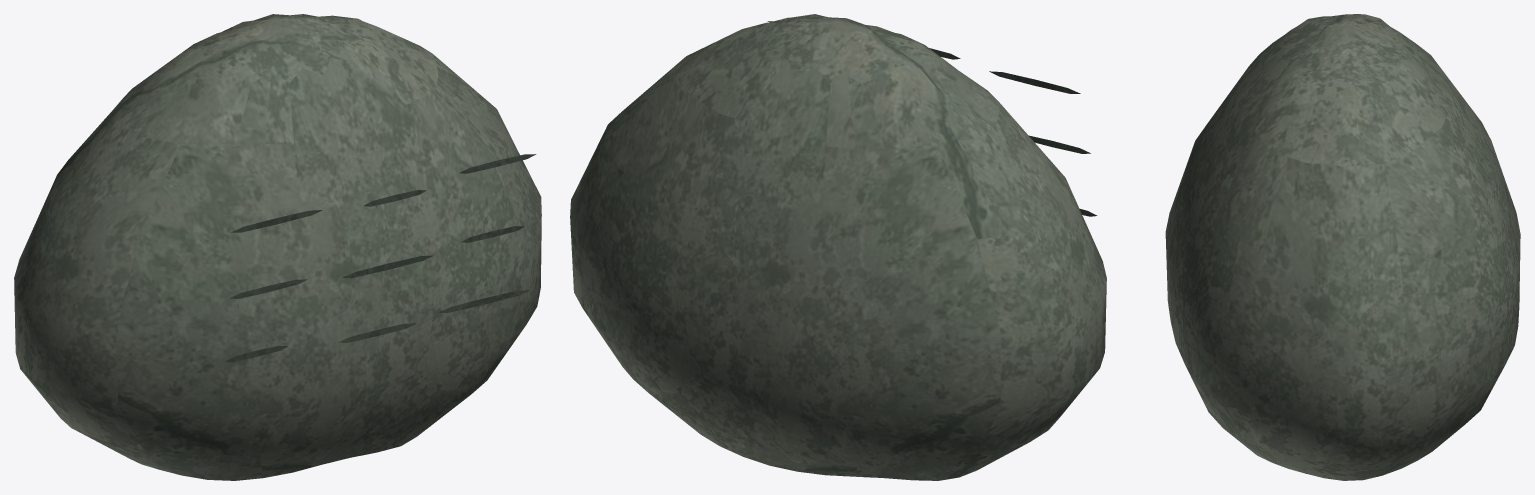
File: wayfinding-stone.desktop.glb
The picture shows the model from 3 angles, left to right: view 1: azimuth 30°, elevation 25°; view 2: azimuth 150°, elevation 25°; view 3: azimuth 270°, elevation 25°; orthographic projection. The views are drawn at different scales.
Visible parts, largest first — view 1: SA_G14_MESH_60, SA_G14_MESH_61; view 2: SA_G14_MESH_60, SA_G14_MESH_61; view 3: SA_G14_MESH_60.
Part boxes in pixels (x1,y1,x2,y2): SA_G14_MESH_60: [14, 14, 541, 480]; SA_G14_MESH_61: [225, 154, 536, 362]; SA_G14_MESH_60: [570, 14, 1106, 480]; SA_G14_MESH_61: [767, 21, 1097, 216]; SA_G14_MESH_60: [1165, 14, 1520, 480].
Size of the model in its own units: 0.984 by 0.761 by 0.689.
Materials: 1 (1 with a texture image).
